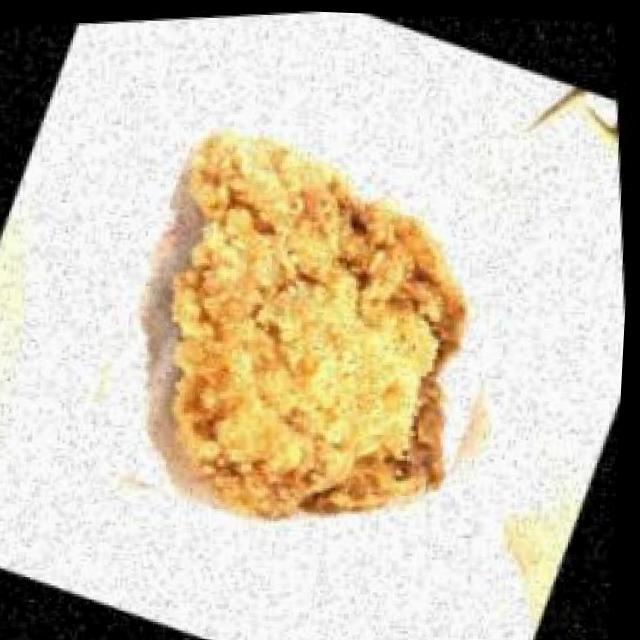fried_chicken: (46, 80, 577, 605)
